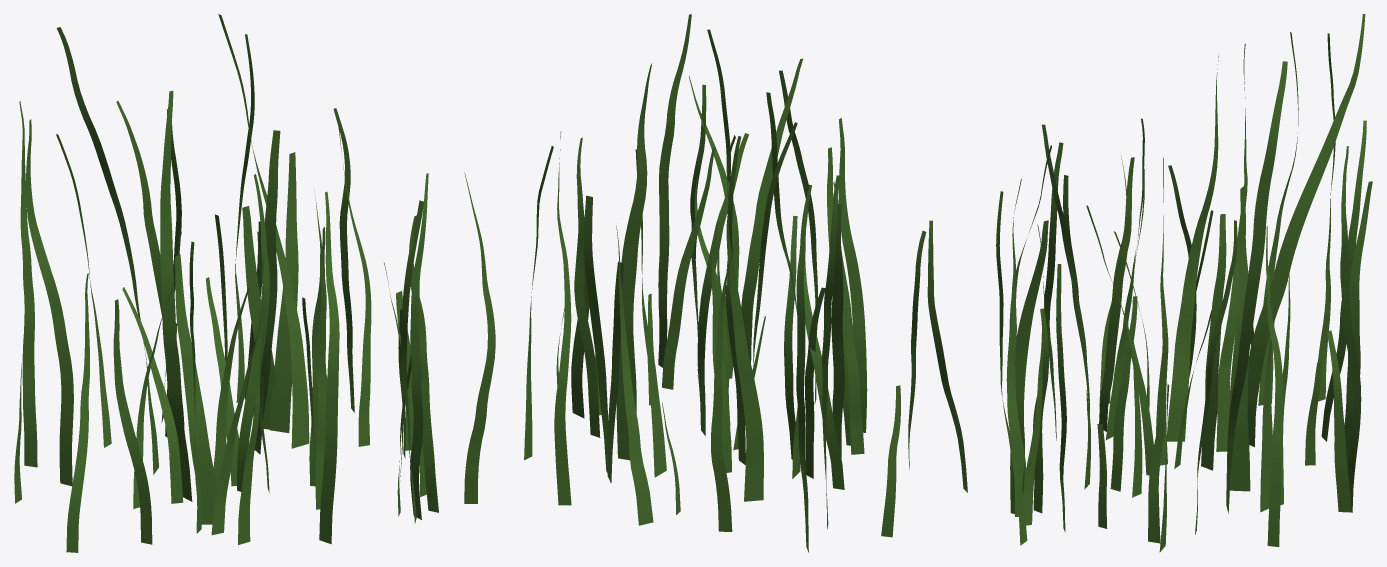
File: plant_swamp_kelp_giant_B_dense.fbx
3 views of the same model, side by side, from view 1: azimuth 30°, elevation 25°; view 2: azimuth 150°, elevation 25°; view 3: azimuth 270°, elevation 25° (orthographic).
Parts seen in each view (by area): view 1: plant_swamp_kelp_giant_B_dense; view 2: plant_swamp_kelp_giant_B_dense; view 3: plant_swamp_kelp_giant_B_dense.
Boxes of the visible parts, x1,y1,x2,y2 form: plant_swamp_kelp_giant_B_dense: [14, 14, 495, 552]; plant_swamp_kelp_giant_B_dense: [524, 14, 967, 552]; plant_swamp_kelp_giant_B_dense: [996, 14, 1372, 552].
Size of the model in its own units: 580 by 630 by 508.
